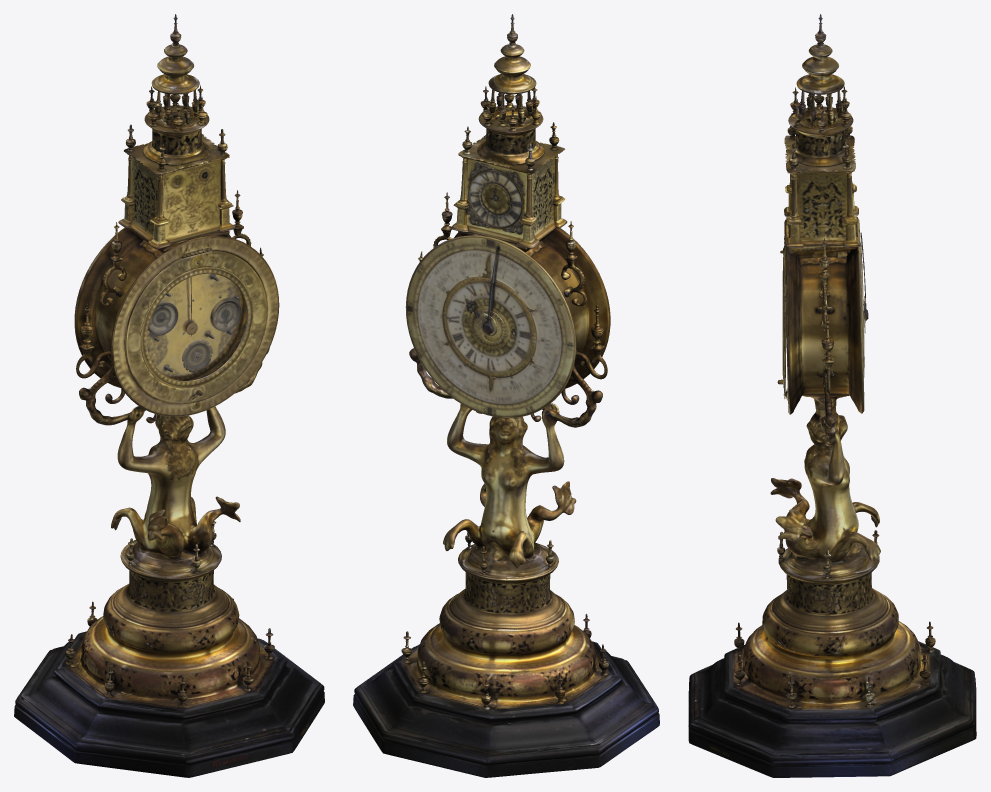
Rendered from astronomical_monstrance_clock.glb.
3 views of the same model, side by side, from view 1: azimuth 30°, elevation 25°; view 2: azimuth 150°, elevation 25°; view 3: azimuth 270°, elevation 25° (orthographic).
Parts seen in each view (by area): view 1: 1282_Zegar_07, 1282_Zegar_01, 1282_Zegar_06, 1282_Zegar_02, 1282_Zegar_05, 1282_Zegar_00; view 2: 1282_Zegar_07, 1282_Zegar_06, 1282_Zegar_01, 1282_Zegar_02, 1282_Zegar_05, 1282_Zegar_04; view 3: 1282_Zegar_07, 1282_Zegar_01, 1282_Zegar_06, 1282_Zegar_02, 1282_Zegar_05.
Part boxes in pixels (left/top/right/bottom): 1282_Zegar_07: left=59, top=190, right=282, bottom=712; 1282_Zegar_01: left=14, top=631, right=324, bottom=777; 1282_Zegar_06: left=74, top=227, right=279, bottom=416; 1282_Zegar_02: left=130, top=14, right=220, bottom=243; 1282_Zegar_05: left=118, top=85, right=235, bottom=257; 1282_Zegar_00: left=146, top=298, right=241, bottom=372; 1282_Zegar_07: left=397, top=192, right=616, bottom=714; 1282_Zegar_06: left=405, top=228, right=610, bottom=417; 1282_Zegar_01: left=353, top=641, right=659, bottom=777; 1282_Zegar_02: left=466, top=14, right=555, bottom=243; 1282_Zegar_05: left=450, top=86, right=567, bottom=256; 1282_Zegar_04: left=472, top=310, right=505, bottom=345; 1282_Zegar_07: left=728, top=232, right=935, bottom=713; 1282_Zegar_01: left=688, top=641, right=976, bottom=777; 1282_Zegar_06: left=784, top=218, right=864, bottom=414; 1282_Zegar_02: left=788, top=14, right=856, bottom=246; 1282_Zegar_05: left=784, top=86, right=860, bottom=264.
Bounding box in the file's own units: 35.02 × 94.06 × 34.85.
Materials: 2 (1 with a texture image).
